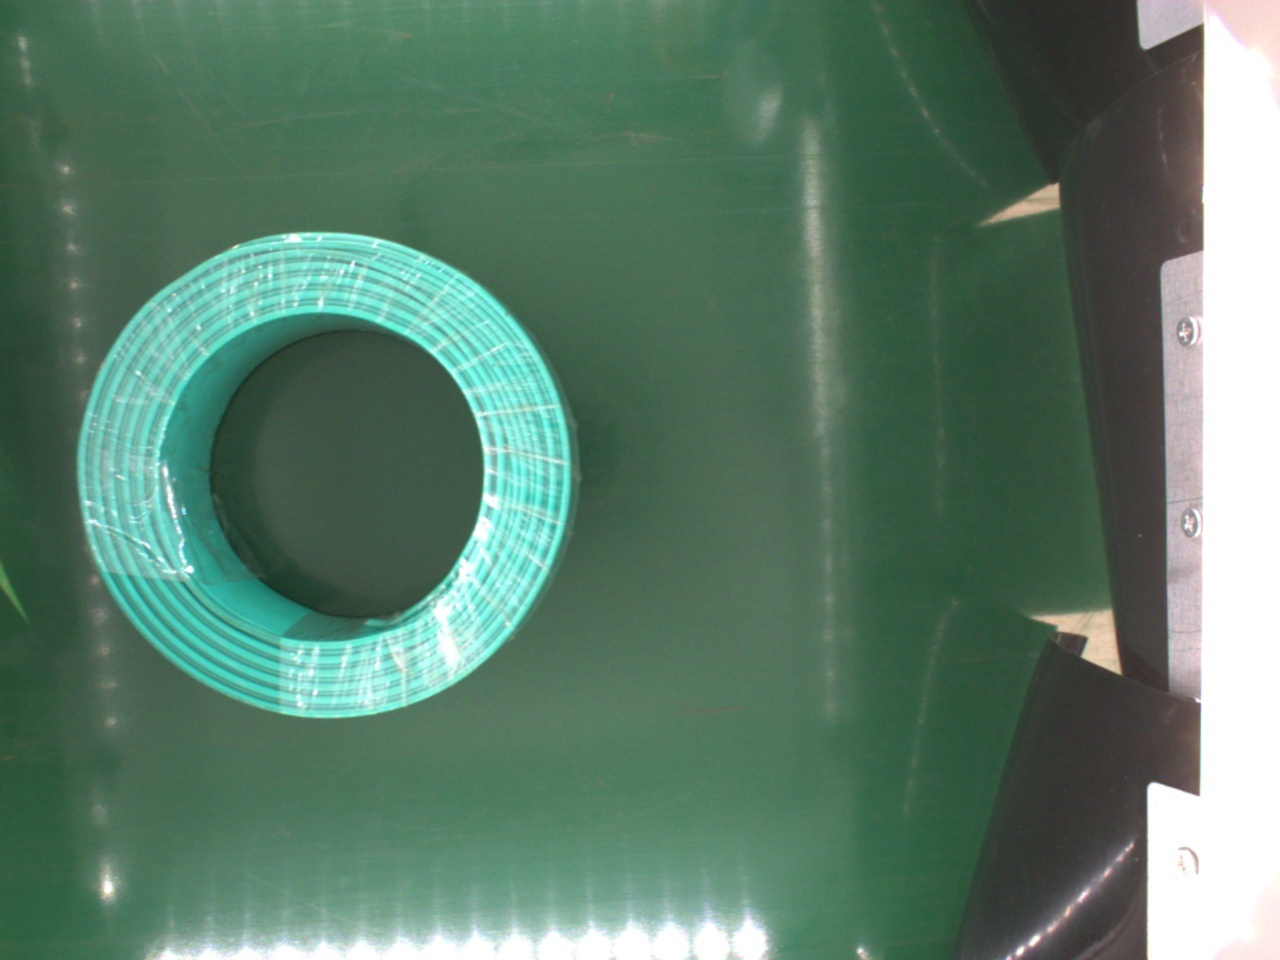green: (76, 225, 577, 722)
